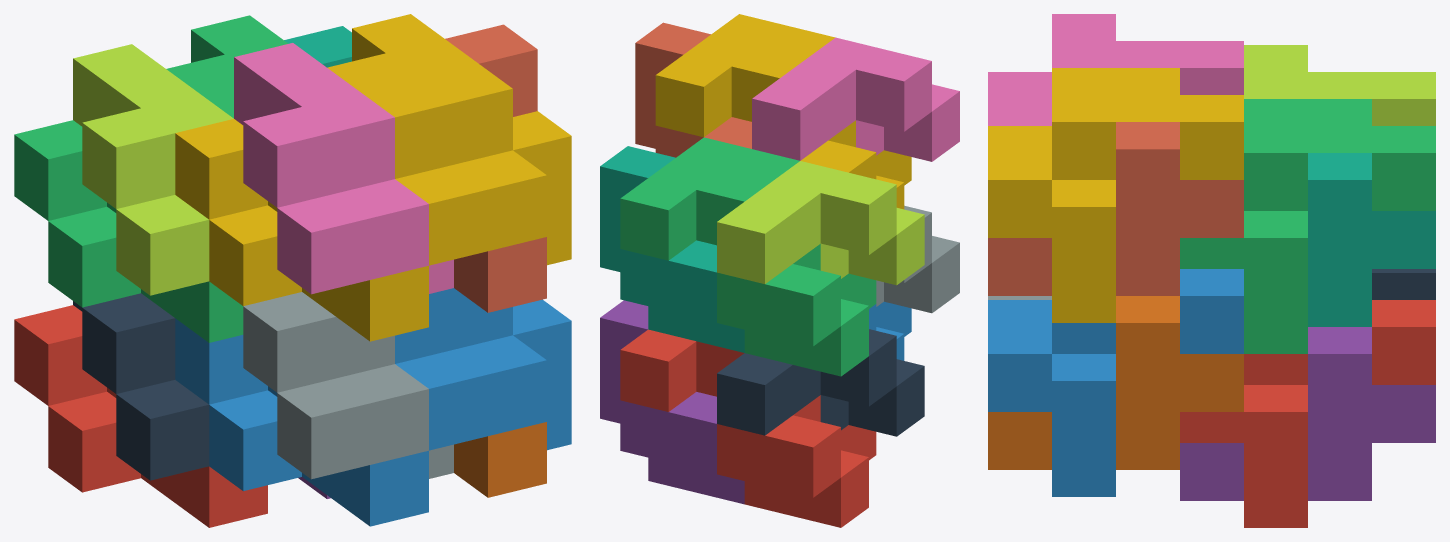
Rendered from tiling.obj.
3 renders of one model, left to right at view 1: azimuth 30°, elevation 25°; view 2: azimuth 150°, elevation 25°; view 3: azimuth 270°, elevation 25°, orthographic. The views are drawn at different scales.
Parts seen in each view (by area): view 1: copy_2_domain_4, copy_2_domain_8, copy_2_domain_2, copy_2_domain_3, copy_2_domain_6, copy_1_domain_4, copy_1_domain_3, copy_1_domain_1, copy_1_domain_2, copy_2_domain_1, copy_1_domain_8, copy_1_domain_6 (+2 smaller); view 2: copy_2_domain_3, copy_2_domain_4, copy_1_domain_3, copy_1_domain_1, copy_2_domain_1, copy_1_domain_7, copy_1_domain_5, copy_2_domain_7, copy_2_domain_8, copy_1_domain_4, copy_1_domain_8, copy_2_domain_5 (+2 smaller); view 3: copy_2_domain_8, copy_2_domain_7, copy_2_domain_6, copy_1_domain_5, copy_1_domain_6, copy_1_domain_8, copy_2_domain_5, copy_1_domain_7, copy_2_domain_4, copy_2_domain_3, copy_2_domain_1, copy_1_domain_3 (+1 smaller).
Part boxes in pixels (x1,y1,x2,y2): copy_2_domain_4: (234,43,453,294); copy_2_domain_8: (352,14,571,265); copy_2_domain_2: (243,292,453,479); copy_2_domain_3: (73,44,233,295); copy_2_domain_6: (395,288,571,450); copy_1_domain_4: (175,53,428,341); copy_1_domain_3: (14,54,243,342); copy_1_domain_1: (14,305,267,527); copy_1_domain_2: (175,318,428,526); copy_2_domain_1: (73,293,209,480); copy_1_domain_8: (445,24,546,312); copy_1_domain_6: (454,422,546,497); copy_2_domain_3: (717,161,924,285); copy_2_domain_4: (752,37,959,161); copy_1_domain_3: (696,169,876,376); copy_1_domain_1: (696,341,876,527); copy_2_domain_1: (717,329,924,436); copy_1_domain_7: (600,146,744,352); copy_1_domain_5: (600,300,744,504); copy_2_domain_7: (620,137,799,260); copy_2_domain_8: (655,14,835,137); copy_1_domain_4: (731,46,911,209); copy_1_domain_8: (635,22,751,157); copy_2_domain_5: (620,329,696,411); copy_2_domain_8: (988,68,1243,322); copy_2_domain_7: (1180,99,1435,353); copy_2_domain_6: (988,269,1243,496); copy_1_domain_5: (1180,327,1435,500); copy_1_domain_6: (988,296,1243,469); copy_1_domain_8: (988,122,1243,295); copy_2_domain_5: (1180,300,1435,527); copy_1_domain_7: (1308,153,1435,326); copy_2_domain_4: (988,14,1243,125); copy_2_domain_3: (1244,45,1435,125); copy_2_domain_1: (1372,269,1435,299); copy_1_domain_3: (1308,99,1371,125).
Bounding box in the file's own units: 6 × 7 × 7.
